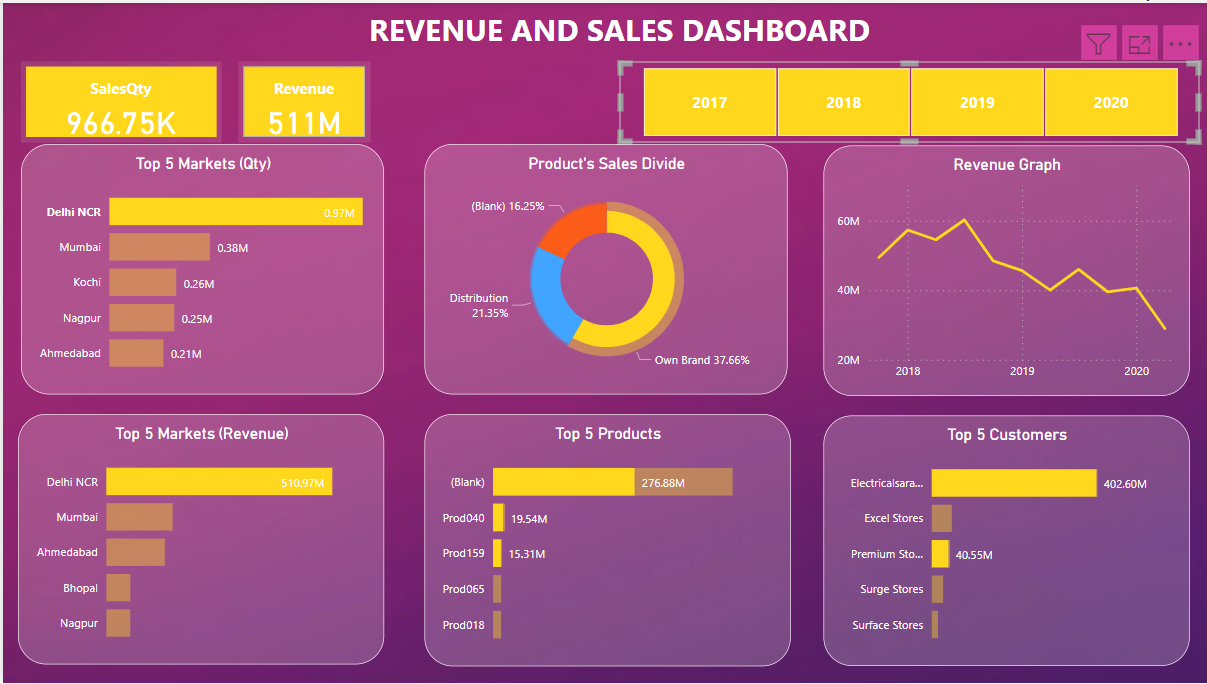

What the dashboard file says about the page in this screenshot:
{"tool":"powerbi","page":{"name":"Page 1","canvas":[1280,720],"ordinal":0},"visuals":[{"type":"barChart","title":"Top 5 Markets (Revenue)","fields":{"Category":["markets.market_name"],"Y":["transactions.Revenue"]},"box":[15.9,435.5,387.8,265.4],"z":0},{"type":"cardVisual","fields":{"Data":["transactions.SalesQty"]},"box":[19.1,62,213,85.8],"z":1000},{"type":"cardVisual","fields":{"Data":["transactions.Revenue"]},"box":[249.5,62,139.9,85.8],"z":2000},{"type":"barChart","title":"Top 5 Customers","fields":{"Category":["customers.customer_name"],"Y":["transactions.Revenue"]},"box":[869.4,437.1,387.8,265.4],"z":3000},{"type":"slicer","fields":{"Values":["date.year"]},"box":[653.2,62,615.1,85.8],"z":4000},{"type":"lineChart","title":"Revenue Graph","fields":{"Y":["transactions.Revenue"],"Category":["date.cy_date.Variation.Date Hierarchy.Year","date.cy_date.Variation.Date Hierarchy.Quarter"]},"box":[869.4,151,387.8,265.4],"z":5000},{"type":"clusteredBarChart","title":"Top 5 Products","fields":{"Category":["products.product_code"],"Y":["transactions.Revenue"]},"box":[446.6,435.5,387.8,267],"z":6000},{"type":"donutChart","title":"Product''s Sales Divide","fields":{"Category":["products.product_type"],"Y":["transactions.SalesQty"]},"box":[446.6,149.4,384.6,265.4],"z":7000},{"type":"textbox","box":[367.2,0,572.2,62],"z":8000},{"type":"barChart","title":"Top 5 Markets (Qty)","fields":{"Category":["markets.market_name"],"Y":["transactions.SalesQty"]},"box":[19.1,149.4,384.6,265.4],"z":9000}]}

Visuals, with their boxes in screenshot pixels (x1, y1, x2, y2), scaled from the page's 1280x720 canvas onto the 1207x684 screenshot:
"Top 5 Markets (Revenue)" barChart: left=15, top=414, right=381, bottom=666
cardVisual - transactions.SalesQty: left=18, top=59, right=219, bottom=140
cardVisual - transactions.Revenue: left=235, top=59, right=367, bottom=140
"Top 5 Customers" barChart: left=820, top=415, right=1186, bottom=667
slicer - date.year: left=616, top=59, right=1196, bottom=140
"Revenue Graph" lineChart: left=820, top=143, right=1186, bottom=396
"Top 5 Products" clusteredBarChart: left=421, top=414, right=787, bottom=667
"Product''s Sales Divide" donutChart: left=421, top=142, right=784, bottom=394
textbox: left=346, top=0, right=886, bottom=59
"Top 5 Markets (Qty)" barChart: left=18, top=142, right=381, bottom=394
